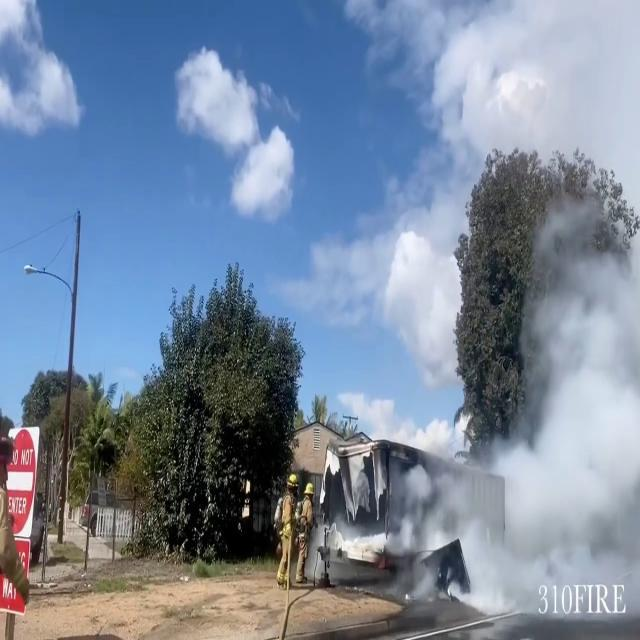Smoke: (391, 154, 640, 612)
